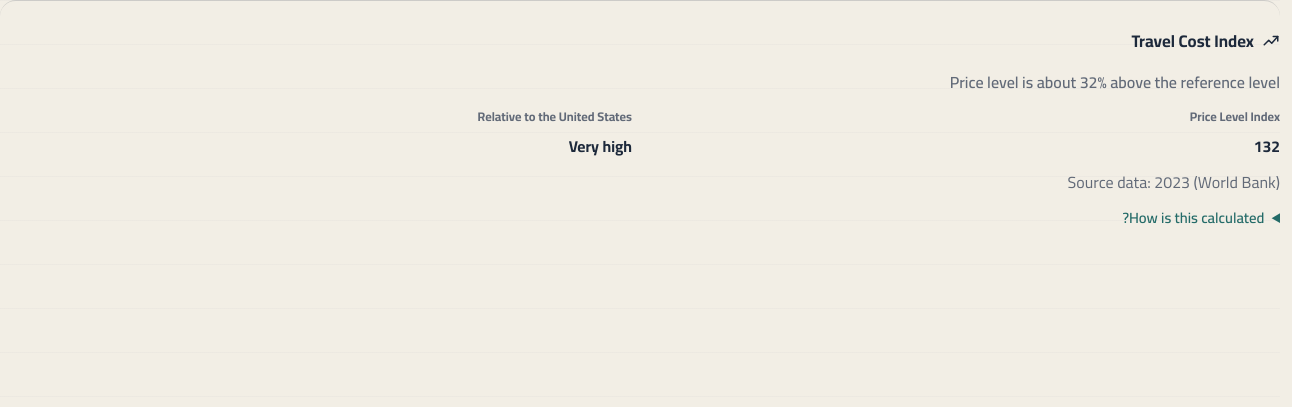
it: Composition-refinement pass — Travel Cost <details> disclosure (concise by default, full text one tap away) › expanded state: clicking the summary opens <details> and the full methodology text becomes reachable
Expected: the heading "Travel Cost Index" is shown, [1132,25,1280,57]
Click the heading "How is this calculated?": [1193, 217] box [1122,204,1264,231]
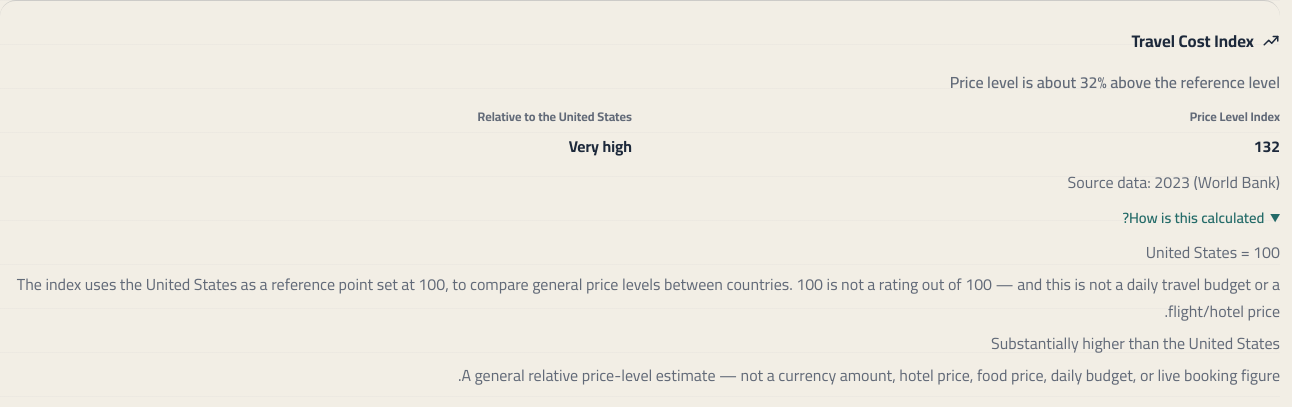
Expected: the text "not a currency amount, hotel price, food price, daily budget, or live booking figure" is shown, [458,360,1280,390]
